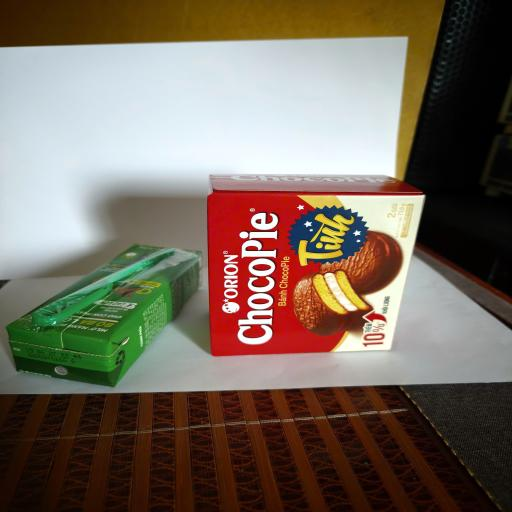chocopie: (207, 174, 425, 357)
milo: (6, 243, 203, 388)
